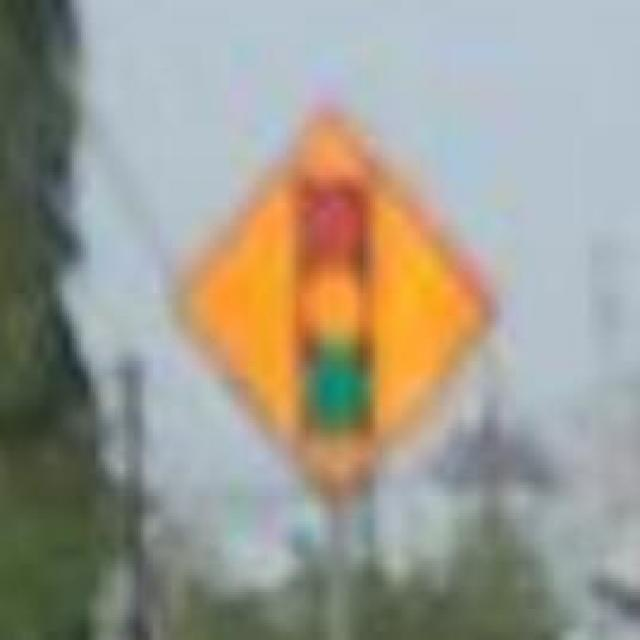traffic sign: (184, 124, 485, 488)
